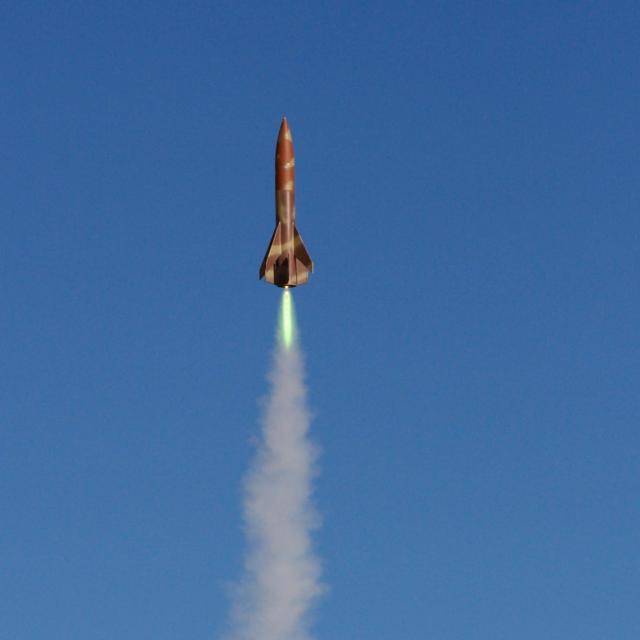Rocket: (257, 116, 316, 290)
